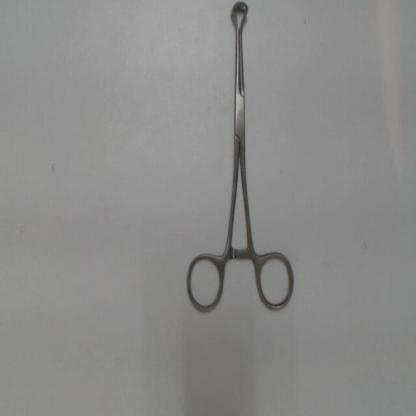Babcock Tissue Forceps: (183, 1, 298, 318)
